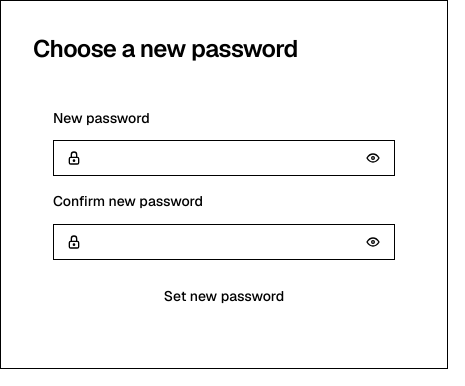
Test: ResetPasswordView › sets the new password with the token, then points to sign-in
Type "brand-new-password" into the password field labelled "New password". click: [220, 158]
box: [82,140,357,176]
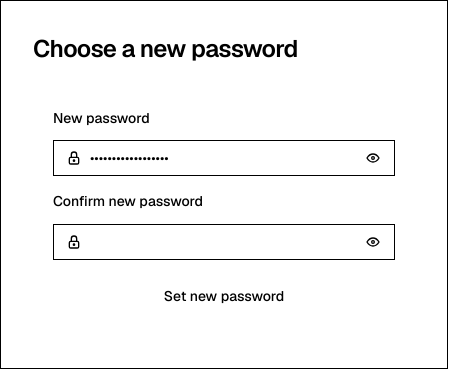
Type "brand-new-password" into the password field labelled "Confirm new password". click: [220, 242]
box: [82,224,357,260]
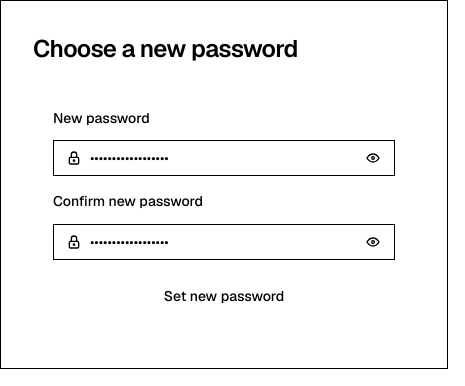
Click the button "Set new password". click: [224, 296]
box: [53,276,395,316]
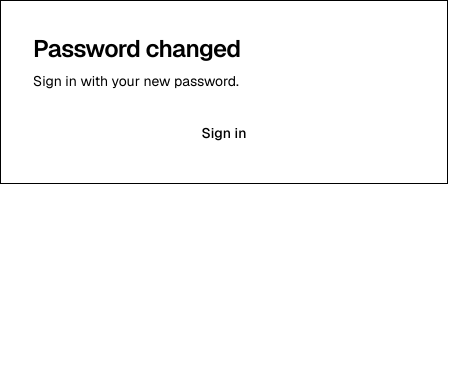
Expected: the heading "Password changed" is shown, [33,33,241,64]
